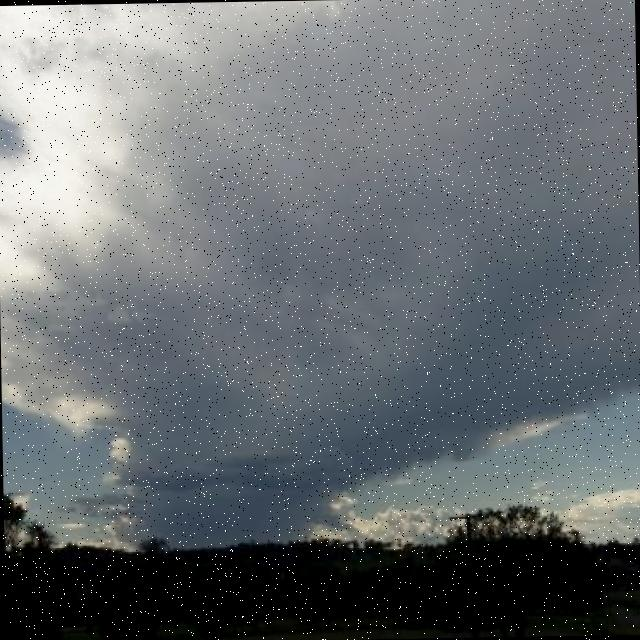Cb: (1, 4, 640, 473)
